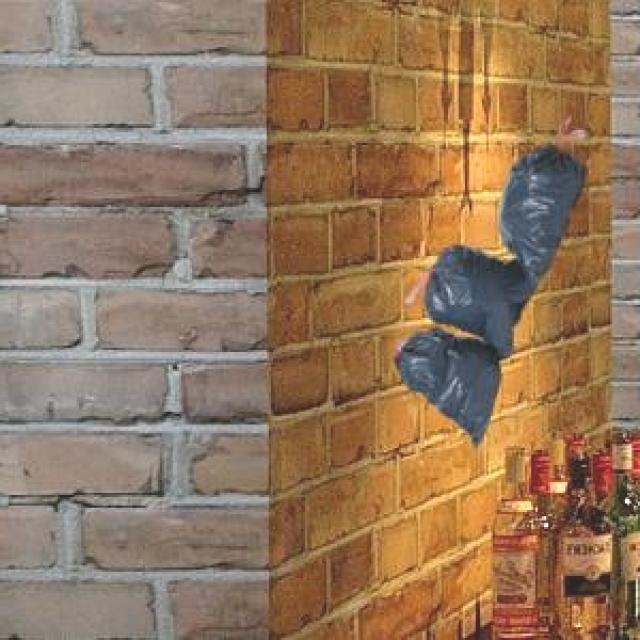Trashbag: (392, 326, 501, 451), (503, 147, 589, 270), (428, 246, 533, 338)
